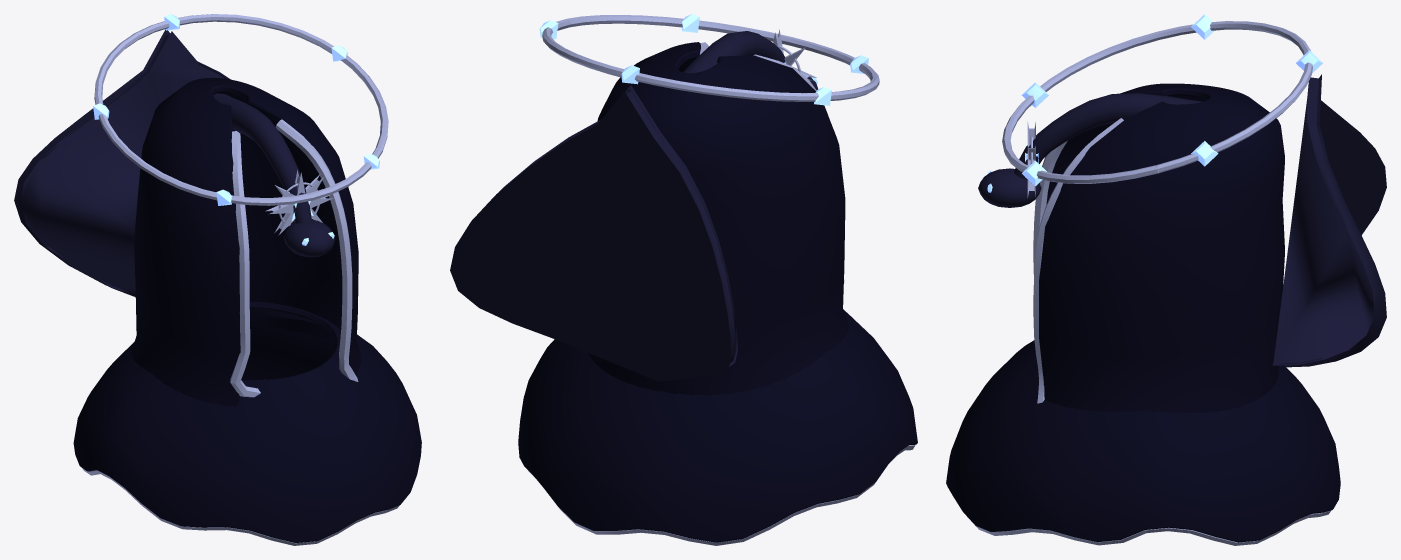
Rendered from asc_starless_stalker_helm.glb.
The picture shows the model from 3 angles, left to right: view 1: azimuth 30°, elevation 25°; view 2: azimuth 150°, elevation 25°; view 3: azimuth 270°, elevation 25°; orthographic projection. The views are drawn at different scales.
Parts seen in each view (by area): view 1: asc_starless_stalker_helm; view 2: asc_starless_stalker_helm; view 3: asc_starless_stalker_helm.
Part boxes in pixels (<box>): asc_starless_stalker_helm: <box>14,14,421,545</box>; asc_starless_stalker_helm: <box>450,14,917,545</box>; asc_starless_stalker_helm: <box>946,14,1386,545</box>.
Bounding box in the file's own units: 0.6031 × 0.7729 × 0.6995.
